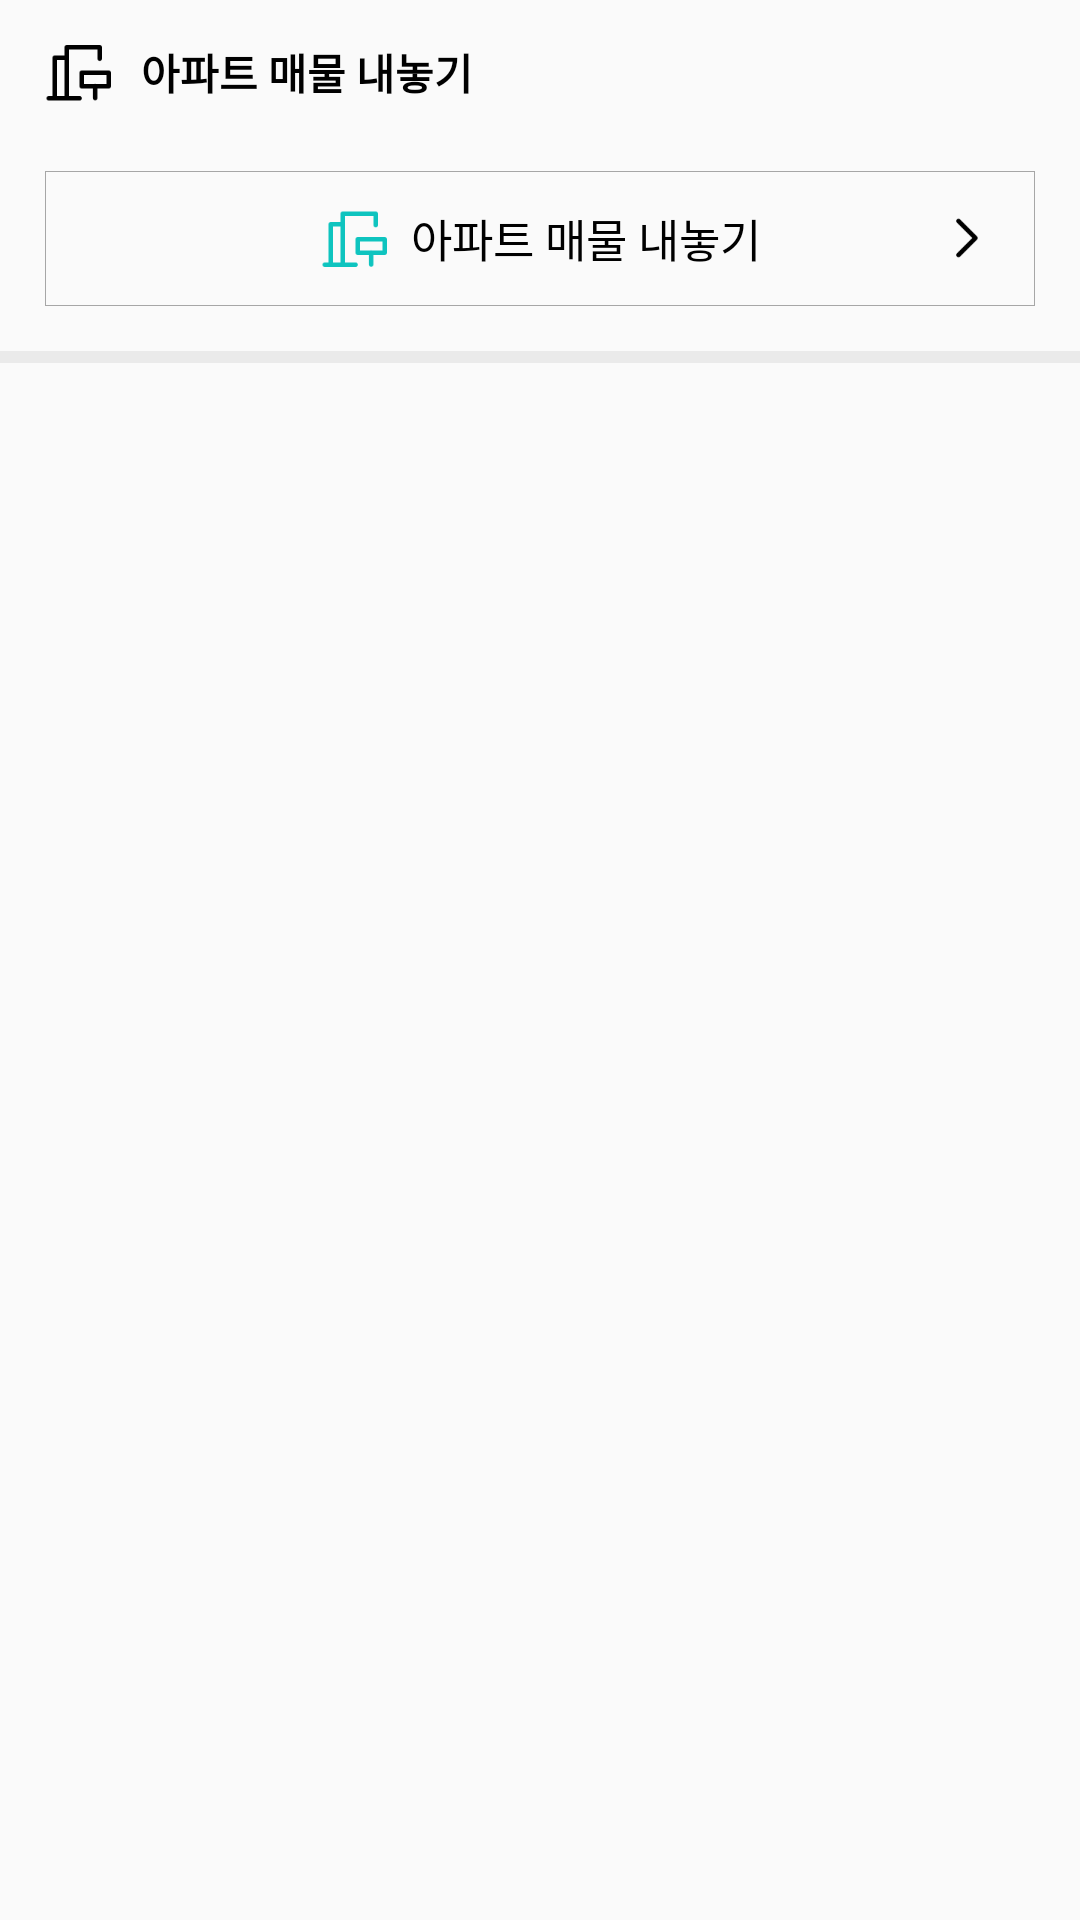

Screen size 1080px×1920px. Icon name, then its box in pixels as (x1, y1, x2, y2):
content title more nor: (956, 218, 978, 258)
